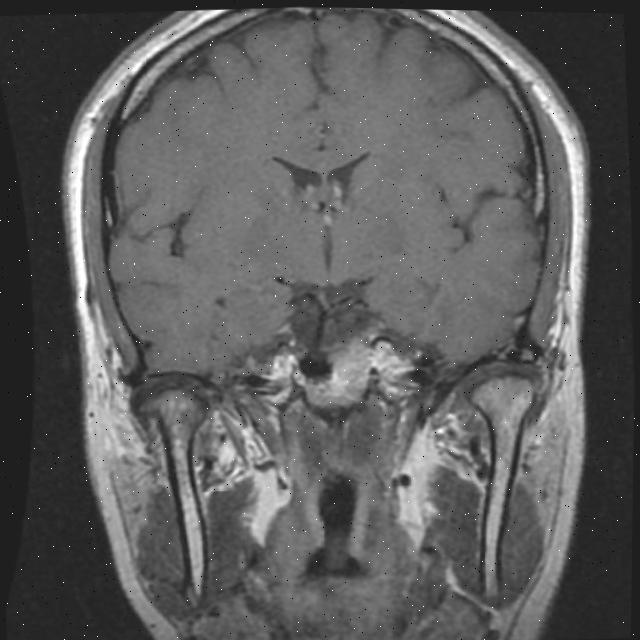Pituitary: (302, 342, 374, 413)
